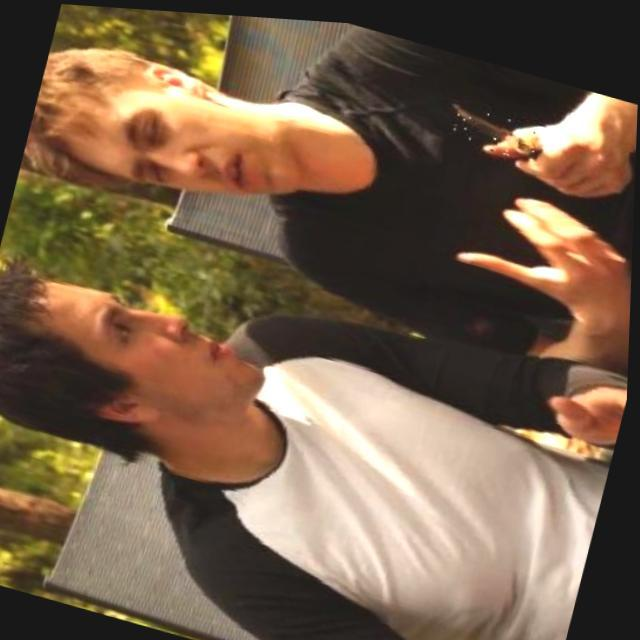knife: (450, 96, 550, 156)
